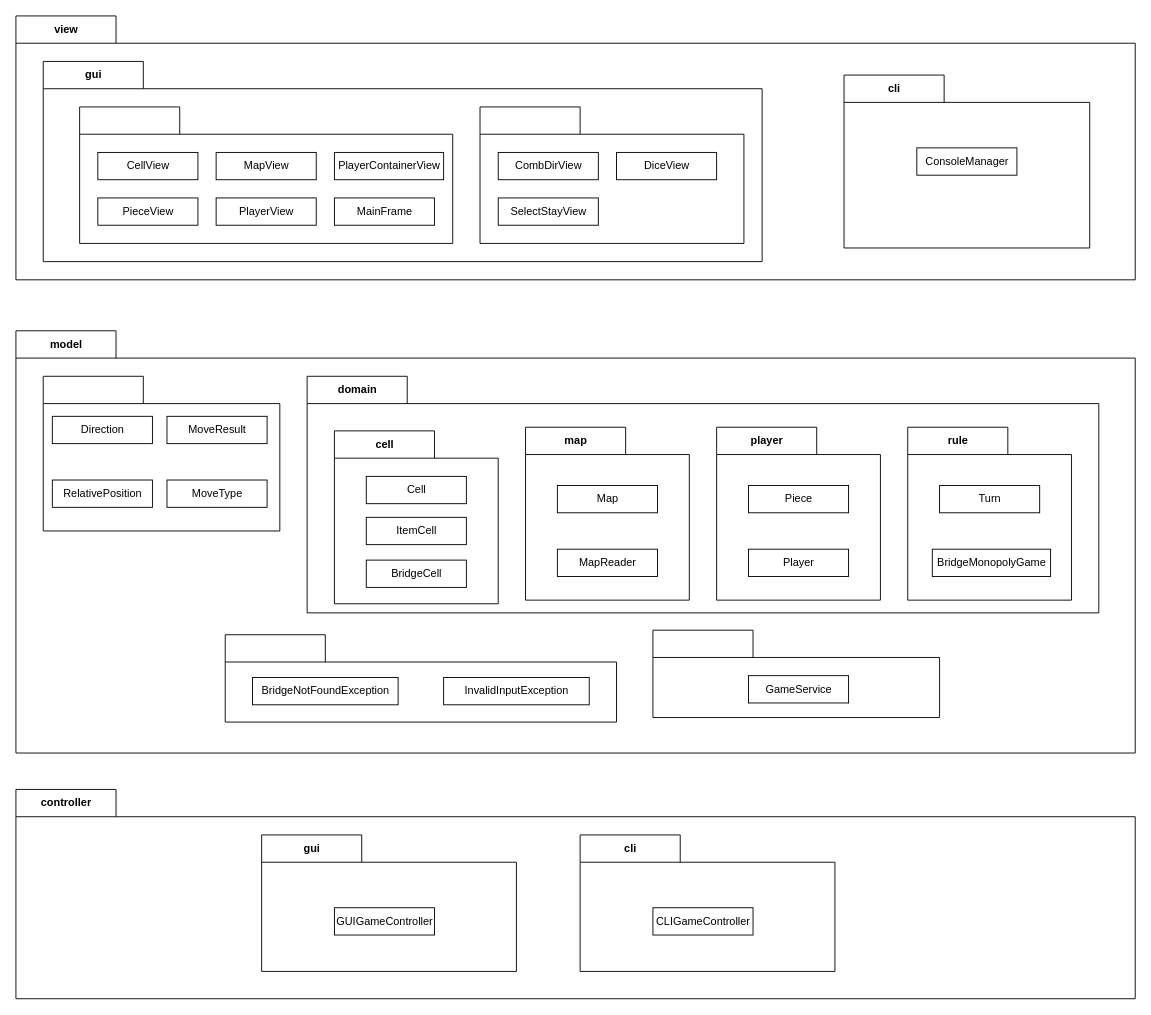
This 1151x1015 diagram has some shape labels left out. The shapes that lost their labels are listed below. From the top down, each one's centre as x and y in pixels, then its label:
At (266,174): "display".
At (611,174): "interaction".
At (161,453): "data".
At (420,678): "exception".
At (796,673): "service".
